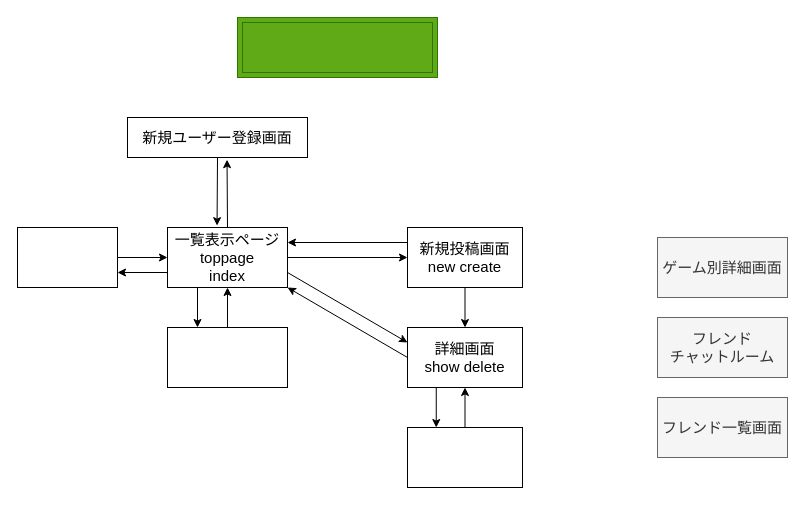
Some shapes in this 805 by 505 pixel diagram are drawn without their labels. Here are the shapes that lost their labels. From the top down, the box of each, then its label:
(236, 16, 438, 78): 画面遷移図
(16, 226, 118, 288): ログイン画面
(166, 326, 288, 388): マイページ
(406, 426, 522, 488): 編集画面 edit
